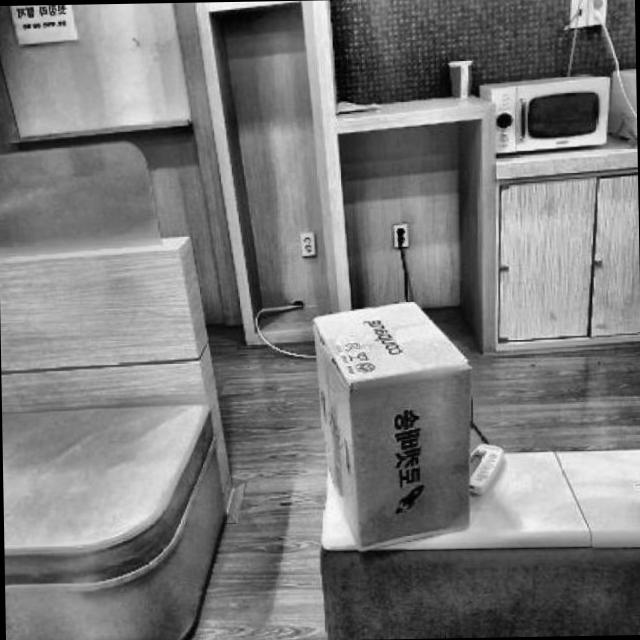box: (284, 288, 482, 573)
